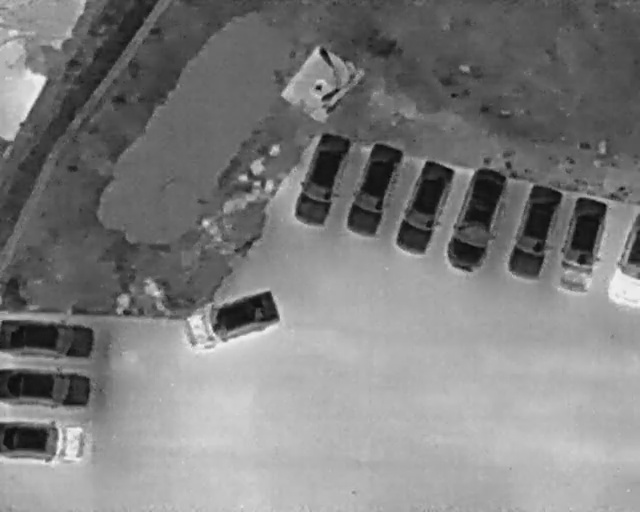Car: (438, 160, 517, 279), (175, 284, 286, 357), (285, 124, 358, 234), (388, 153, 460, 260), (340, 137, 408, 243), (501, 179, 569, 285), (550, 192, 613, 297), (0, 318, 102, 360), (0, 368, 95, 411), (0, 420, 88, 465), (604, 204, 639, 311)
